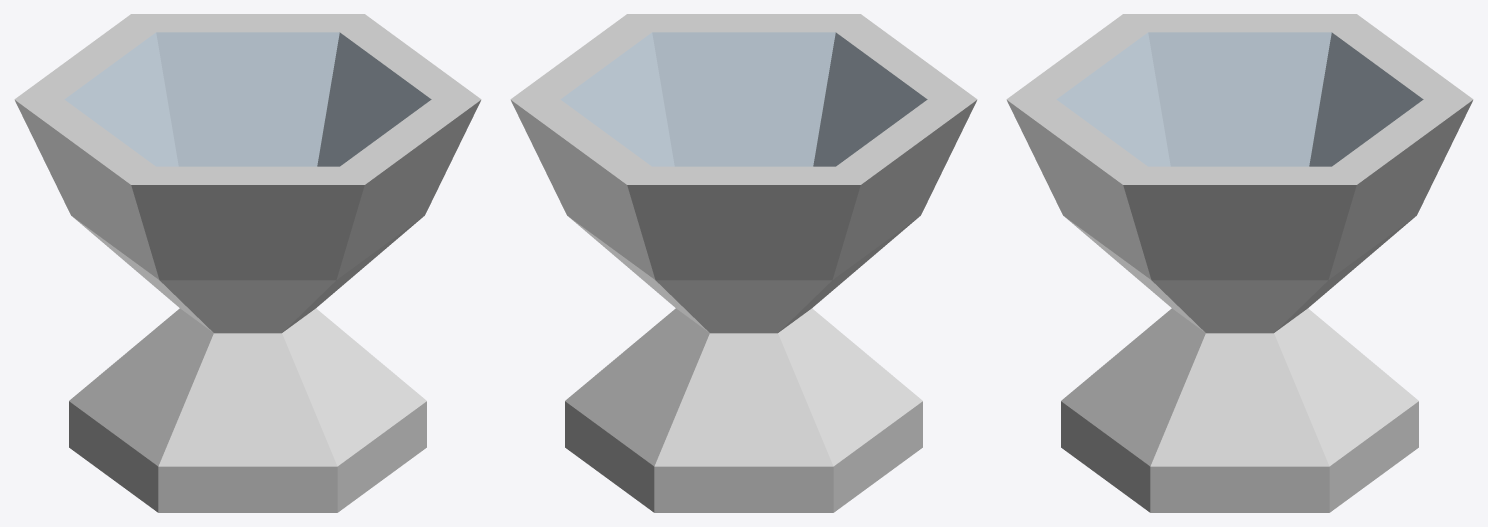
Rendered from eggCup.obj.
3 renders of one model, left to right at view 1: azimuth 30°, elevation 25°; view 2: azimuth 150°, elevation 25°; view 3: azimuth 270°, elevation 25°, orthographic.
Parts seen in each view (by area): view 1: eggCup; view 2: eggCup; view 3: eggCup.
Boxes of the visible parts, x1,y1,x2,y2 form: eggCup: (14, 14, 481, 512); eggCup: (510, 14, 977, 512); eggCup: (1006, 14, 1473, 512).
Bounding box in the file's own units: 0.1581 × 0.15 × 0.1826.
